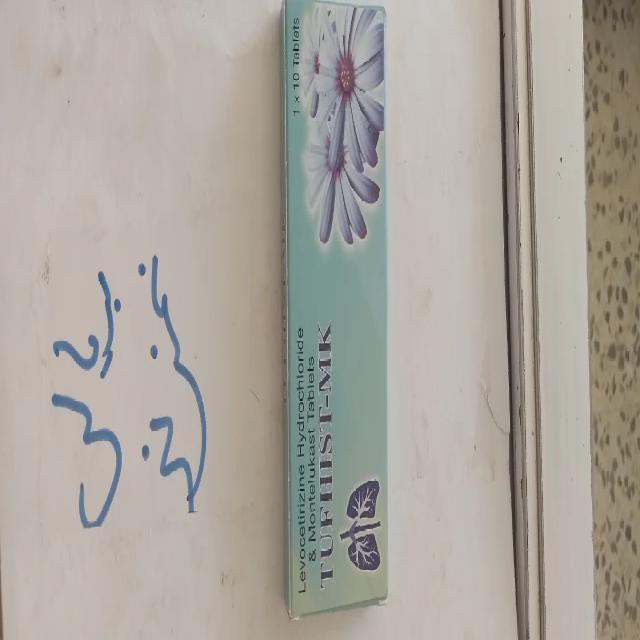drug-name: (316, 324, 340, 604)
